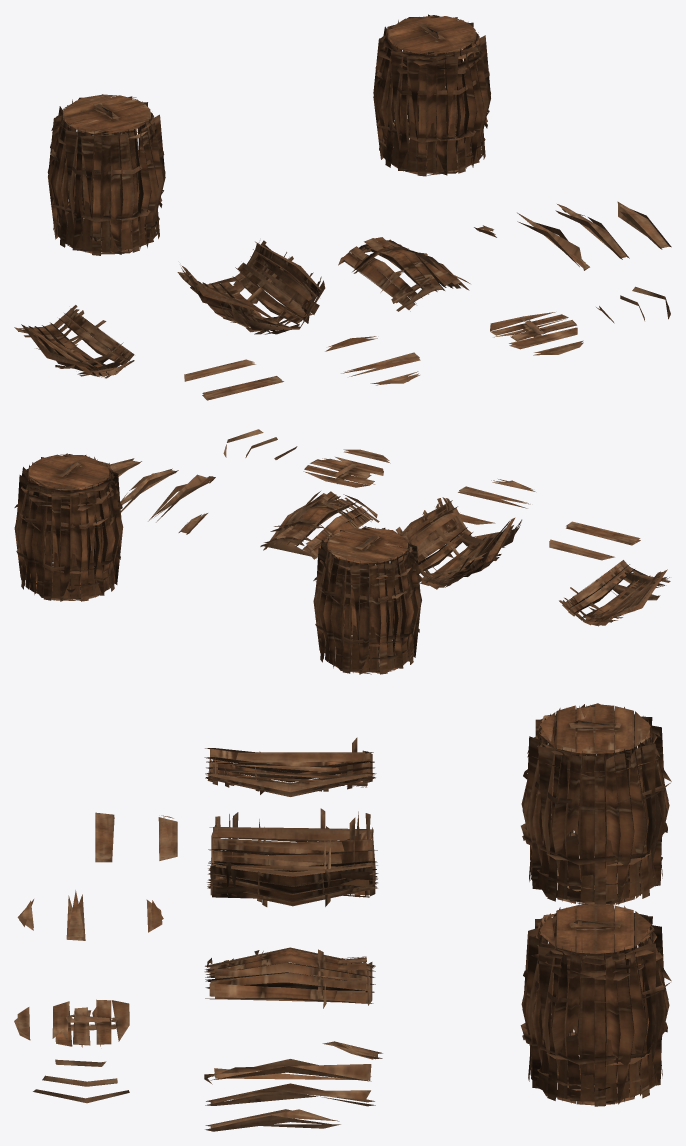
The model's file is ph_wooden_barrels.fbx.
3 renders of one model, top to bottom at view 1: azimuth 30°, elevation 25°; view 2: azimuth 150°, elevation 25°; view 3: azimuth 270°, elevation 25°, orthographic. The views are drawn at different scales.
Parts seen in each view (by area): view 1: ph_wooden_barrels_LOD0; view 2: ph_wooden_barrels_LOD0; view 3: ph_wooden_barrels_LOD0.
Boxes of the visible parts, bbox=[...] form: ph_wooden_barrels_LOD0: bbox=[14, 14, 671, 400]; ph_wooden_barrels_LOD0: bbox=[14, 429, 670, 674]; ph_wooden_barrels_LOD0: bbox=[14, 703, 671, 1131].
Size of what is drawn, in the model's own units: 4.44 by 0.9506 by 3.37.
1 material, 1 textured.
